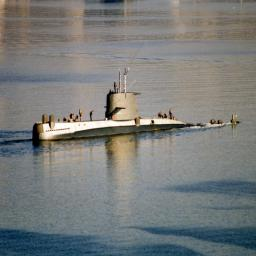submarine: (32, 67, 242, 151)
